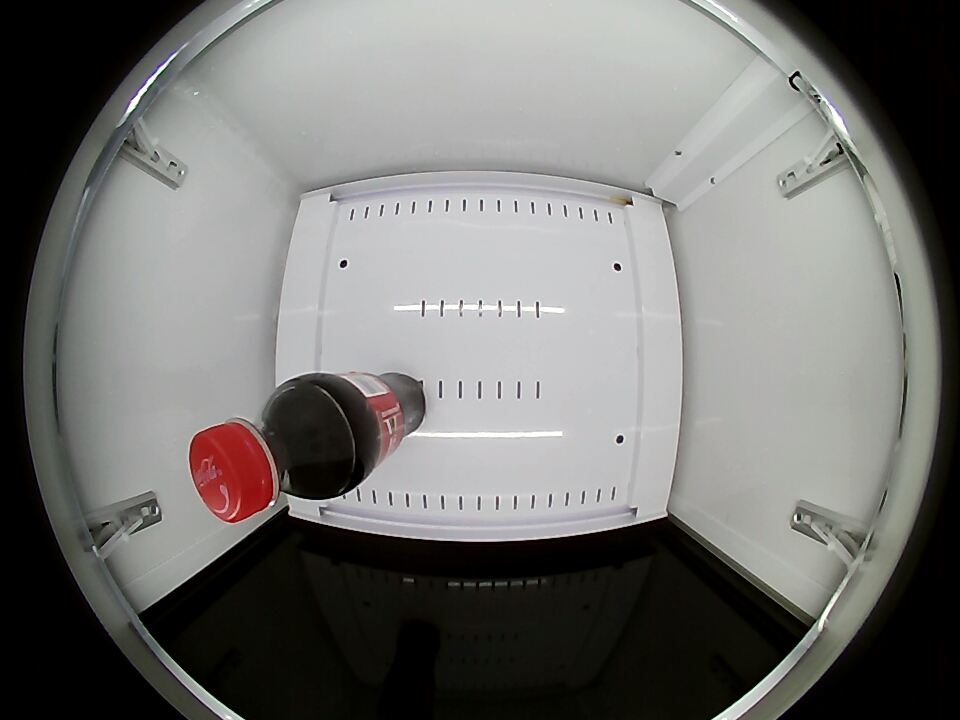kele-b: (190, 380, 353, 521)
